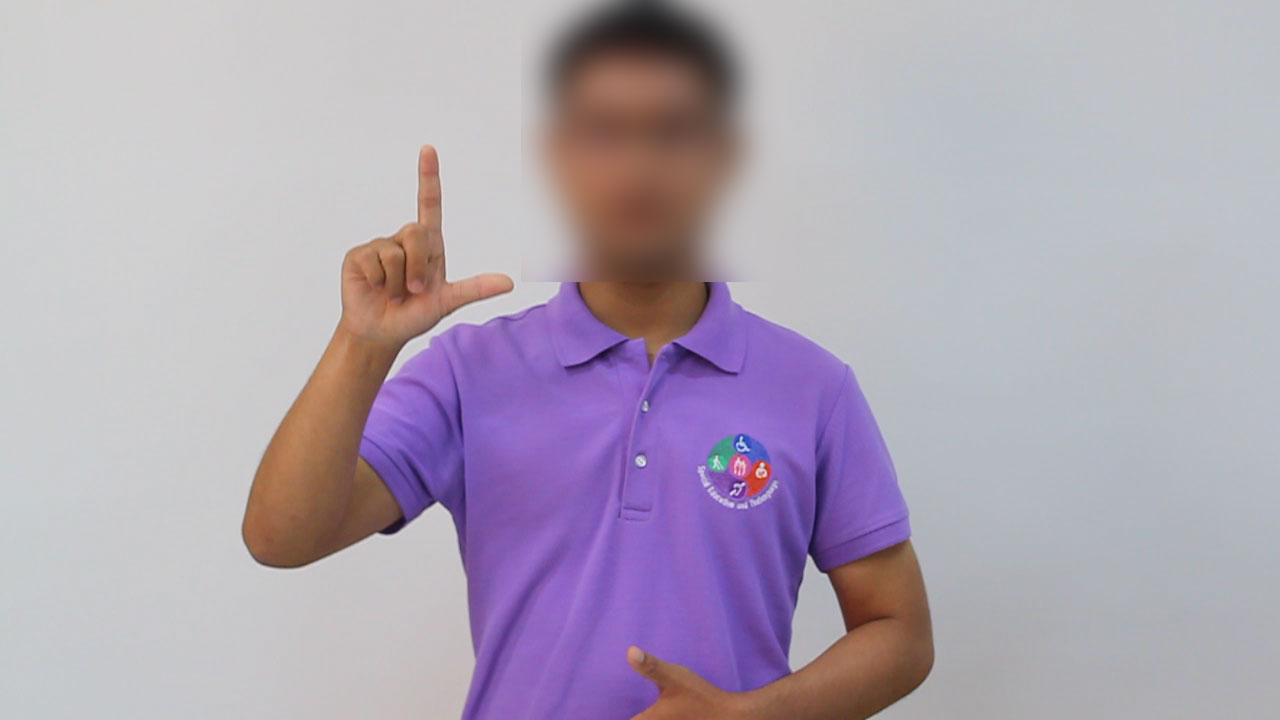lor: (295, 130, 539, 380)
